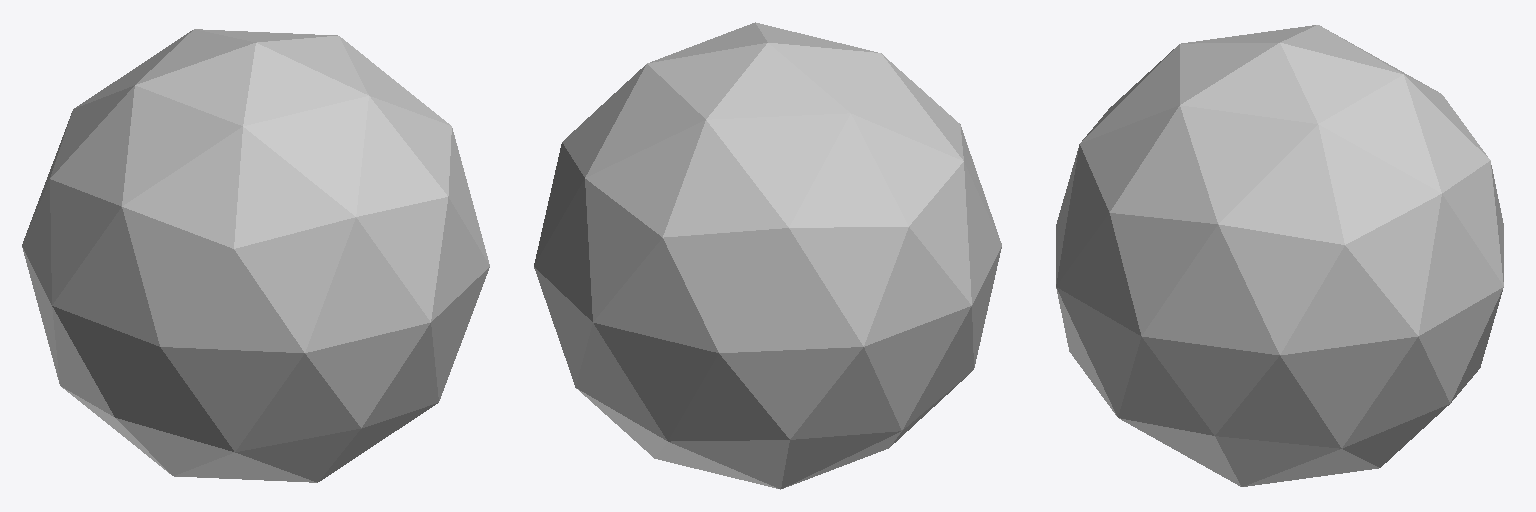
Rendered from particula2.obj.
3 renders of one model, left to right at view 1: azimuth 30°, elevation 25°; view 2: azimuth 150°, elevation 25°; view 3: azimuth 270°, elevation 25°, orthographic.
Visible parts, largest first — view 1: Icosphere; view 2: Icosphere; view 3: Icosphere.
Part boxes in pixels (x1,y1,x2,y2): Icosphere: (22,29,489,482); Icosphere: (534,22,1001,489); Icosphere: (1056,25,1503,486).
Bounding box in the file's own units: 0.2 × 0.2 × 0.1902.